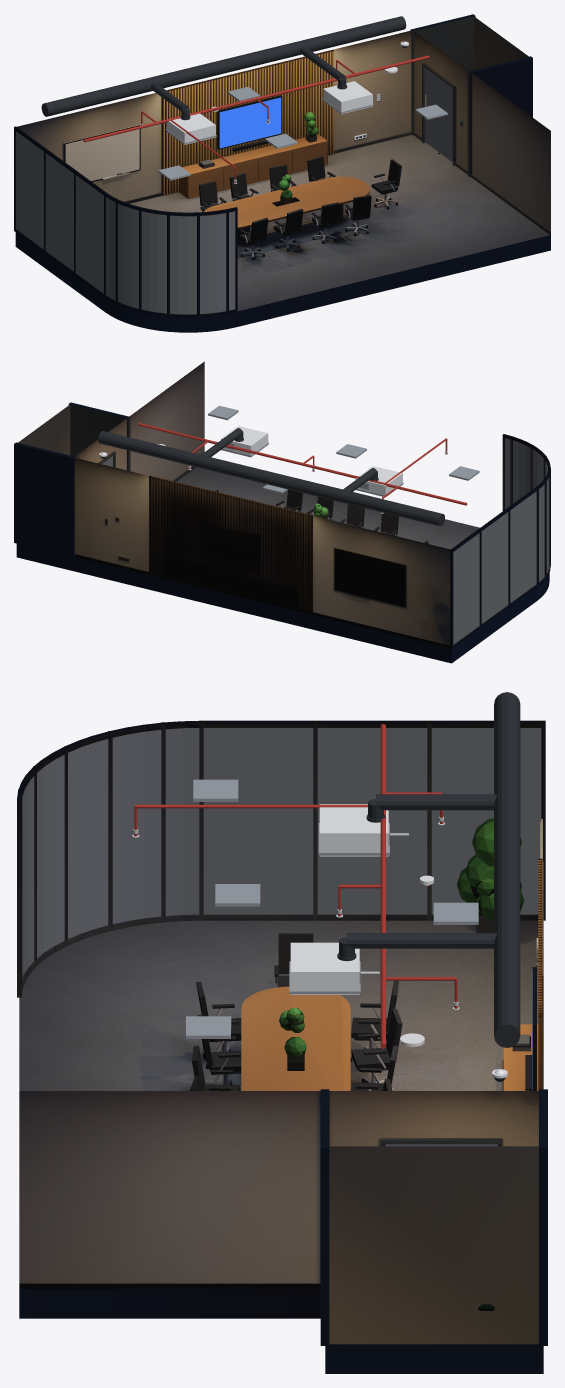
Rendered from room.glb.
3 views of the same model, one above another, from view 1: azimuth 30°, elevation 25°; view 2: azimuth 150°, elevation 25°; view 3: azimuth 270°, elevation 25° (orthographic). The views are drawn at different scales.
Parts seen in each view (by area): view 1: room, room_v, glass, plenum, dev_DS-3205-01, dev_AC-3205-02, dev_AC-3205-01; view 2: room, room_v, glass, plenum, dev_AC-3205-02, dev_AC-3205-01; view 3: room, room_v, glass, plenum, dev_AC-3205-02, dev_AC-3205-01, dev_LT-3205-02, dev_LT-3205-01, dev_LT-3205-03, dev_LT-3205-04.
Part boxes in pixels (bbox=[...]): room: bbox=[17, 30, 550, 311]; room_v: bbox=[14, 14, 550, 332]; glass: bbox=[16, 68, 452, 314]; plenum: bbox=[41, 16, 429, 167]; dev_DS-3205-01: bbox=[217, 95, 282, 149]; dev_AC-3205-02: bbox=[322, 81, 373, 113]; dev_AC-3205-01: bbox=[165, 113, 216, 144]; room: bbox=[75, 361, 479, 645]; room_v: bbox=[14, 402, 550, 663]; glass: bbox=[102, 438, 549, 644]; plenum: bbox=[98, 423, 467, 526]; dev_AC-3205-02: bbox=[221, 426, 268, 457]; dev_AC-3205-01: bbox=[355, 466, 403, 497]; room: bbox=[19, 920, 538, 1288]; room_v: bbox=[17, 720, 547, 1373]; glass: bbox=[22, 728, 541, 1146]; plenum: bbox=[135, 692, 520, 1048]; dev_AC-3205-02: bbox=[289, 942, 379, 994]; dev_AC-3205-01: bbox=[318, 804, 408, 856]; dev_LT-3205-02: bbox=[215, 884, 260, 906]; dev_LT-3205-01: bbox=[193, 779, 238, 801]; dev_LT-3205-03: bbox=[433, 902, 478, 924]; dev_LT-3205-04: bbox=[186, 1016, 231, 1038].
Size of the model in its own units: 13.88 by 4.18 by 7.29.
15 materials, 1 textured.
